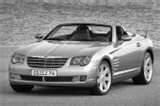car: (9, 22, 158, 94)
